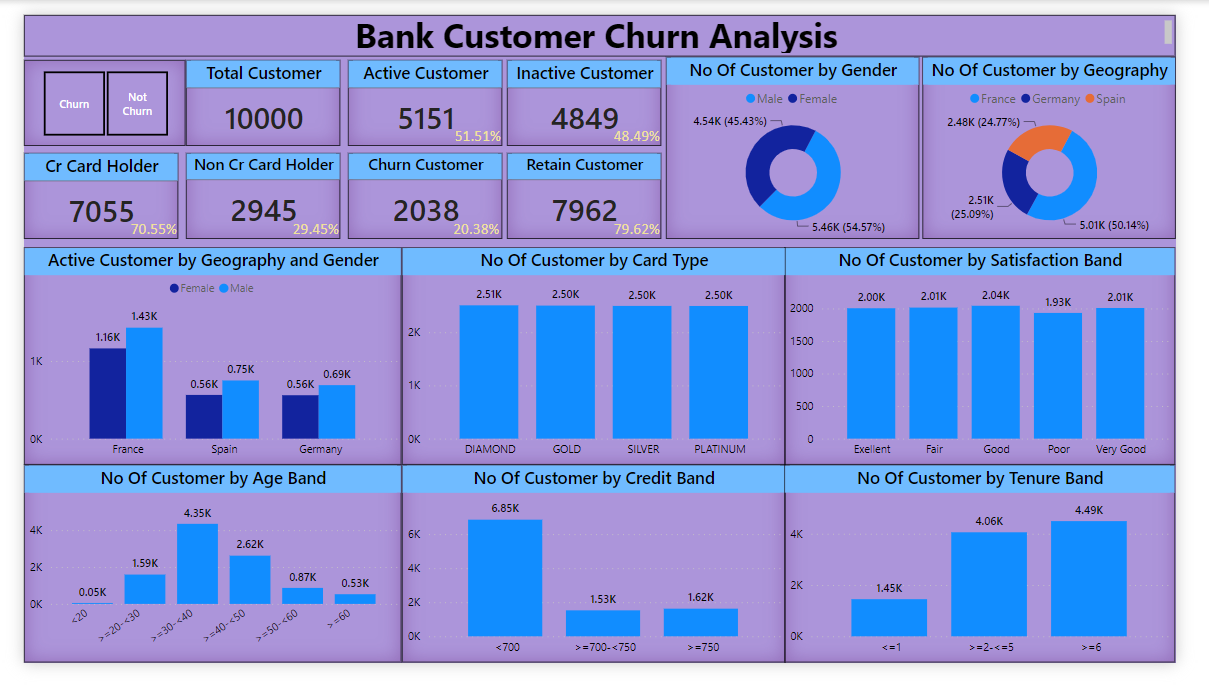

The page's visual inventory and layout, read from the dashboard file:
{"tool":"powerbi","page":{"name":"Churn Analysis Report","canvas":[1280,720],"ordinal":0},"visuals":[{"type":"donutChart","fields":{"Category":["Customer-Churn-Records.Geography"],"Y":["All Measures.No Of Customer"]},"box":[998.1,46.1,281.3,201.9],"z":0},{"type":"clusteredColumnChart","fields":{"Category":["Customer-Churn-Records.Age Band"],"Y":["All Measures.No Of Customer"]},"box":[0,500.7,419.6,219.3],"z":1000},{"type":"clusteredColumnChart","fields":{"Category":["Customer-Churn-Records.Credit Band"],"Y":["All Measures.No Of Customer"]},"box":[419.6,500.7,426,219.3],"z":2000},{"type":"clusteredColumnChart","fields":{"Y":["All Measures.No Of Customer"],"Category":["Customer-Churn-Records.Tenure Band"]},"box":[845.6,500.7,433.9,219.3],"z":3000},{"type":"clusteredColumnChart","fields":{"Y":["All Measures.No Of Customer"],"Category":["Customer-Churn-Records.Satisfaction Band"]},"box":[845.6,259.1,433.9,241.6],"z":4000},{"type":"donutChart","fields":{"Category":["Customer-Churn-Records.Gender"],"Y":["All Measures.No Of Customer"]},"box":[713.6,46.1,281.3,201.9],"z":5000},{"type":"textbox","box":[0,0,1279.5,46.1],"z":6000},{"type":"clusteredColumnChart","fields":{"Y":["All Measures.No Of Customer"],"Category":["Customer-Churn-Records.Card Type"]},"box":[419.6,259.1,426,241.6],"z":7000},{"type":"card","title":"Total Customer","fields":{"Values":["All Measures.No Of Customer"]},"box":[179.6,49.3,171.7,95.4],"z":8000},{"type":"card","title":"Active Customer","fields":{"Values":["All Measures.Active Customer"]},"box":[359.2,49.3,171.7,95.4],"z":9000},{"type":"card","title":"Inactive Customer","fields":{"Values":["All Measures.InActive Customer"]},"box":[537.2,49.3,171.7,95.4],"z":10000},{"type":"card","title":"Cr Card Holder","fields":{"Values":["All Measures.# Of CrCard Holder"]},"box":[0,152.6,171.7,95.4],"z":11000},{"type":"card","title":"Non Cr Card Holder","fields":{"Values":["All Measures.# Of Non CrCard Holder"]},"box":[179.6,152.6,171.7,95.4],"z":12000},{"type":"slicer","fields":{"Values":["Customer-Churn-Records.Exite Status"]},"box":[0,49.3,179.6,95.4],"z":13000},{"type":"lineClusteredColumnComboChart","fields":{"Y":["All Measures.Active Customer"],"Category":["Customer-Churn-Records.Geography"],"Series":["Customer-Churn-Records.Gender"]},"box":[0,259.1,419.6,241.6],"z":14000},{"type":"card","title":"Churn Customer","fields":{"Values":["All Measures.# Of Churn Cases"]},"box":[359.2,152.6,171.7,95.4],"z":15000},{"type":"card","title":"Retain Customer","fields":{"Values":["All Measures.# Of Non Churn Cases"]},"box":[537.2,152.6,171.7,95.4],"z":16000},{"type":"card","title":"Active Customer","fields":{"Values":["All Measures.% Of Active"]},"box":[472.1,117.6,65.2,33.4],"z":17000},{"type":"card","title":"Active Customer","fields":{"Values":["All Measures.% Of InActive"]},"box":[648.5,117.6,65.2,33.4],"z":18000},{"type":"card","title":"Active Customer","fields":{"Values":["All Measures.% Retain Cust"]},"box":[648.5,220.9,65.2,33.4],"z":19000},{"type":"card","title":"Active Customer","fields":{"Values":["All Measures.% Of churn"]},"box":[470.5,220.9,65.2,33.4],"z":20000},{"type":"card","title":"Active Customer","fields":{"Values":["All Measures.% Cr Card"]},"box":[111.3,220.9,65.2,33.4],"z":21000},{"type":"card","title":"Active Customer","fields":{"Values":["All Measures.% Non Cr Card"]},"box":[290.9,220.9,65.2,33.4],"z":22000}]}

Visuals, with their boxes in screenshot pixels (x1, y1, x2, y2), scaled from the page's 1280x720 canvas onto the 1209x691 screenshot:
donutChart - Customer-Churn-Records.Geography x All Measures.No Of Customer: [x1=943, y1=44, x2=1208, y2=238]
clusteredColumnChart - Customer-Churn-Records.Age Band x All Measures.No Of Customer: [x1=0, y1=481, x2=396, y2=690]
clusteredColumnChart - Customer-Churn-Records.Credit Band x All Measures.No Of Customer: [x1=396, y1=481, x2=799, y2=690]
clusteredColumnChart - All Measures.No Of Customer x Customer-Churn-Records.Tenure Band: [x1=799, y1=481, x2=1208, y2=690]
clusteredColumnChart - All Measures.No Of Customer x Customer-Churn-Records.Satisfaction Band: [x1=799, y1=249, x2=1208, y2=481]
donutChart - Customer-Churn-Records.Gender x All Measures.No Of Customer: [x1=674, y1=44, x2=940, y2=238]
textbox: [x1=0, y1=0, x2=1208, y2=44]
clusteredColumnChart - All Measures.No Of Customer x Customer-Churn-Records.Card Type: [x1=396, y1=249, x2=799, y2=481]
"Total Customer" card: [x1=170, y1=47, x2=332, y2=139]
"Active Customer" card: [x1=339, y1=47, x2=501, y2=139]
"Inactive Customer" card: [x1=507, y1=47, x2=670, y2=139]
"Cr Card Holder" card: [x1=0, y1=146, x2=162, y2=238]
"Non Cr Card Holder" card: [x1=170, y1=146, x2=332, y2=238]
slicer - Customer-Churn-Records.Exite Status: [x1=0, y1=47, x2=170, y2=139]
lineClusteredColumnComboChart - All Measures.Active Customer x Customer-Churn-Records.Geography: [x1=0, y1=249, x2=396, y2=481]
"Churn Customer" card: [x1=339, y1=146, x2=501, y2=238]
"Retain Customer" card: [x1=507, y1=146, x2=670, y2=238]
"Active Customer" card: [x1=446, y1=113, x2=507, y2=145]
"Active Customer" card: [x1=613, y1=113, x2=674, y2=145]
"Active Customer" card: [x1=613, y1=212, x2=674, y2=244]
"Active Customer" card: [x1=444, y1=212, x2=506, y2=244]
"Active Customer" card: [x1=105, y1=212, x2=167, y2=244]
"Active Customer" card: [x1=275, y1=212, x2=336, y2=244]
